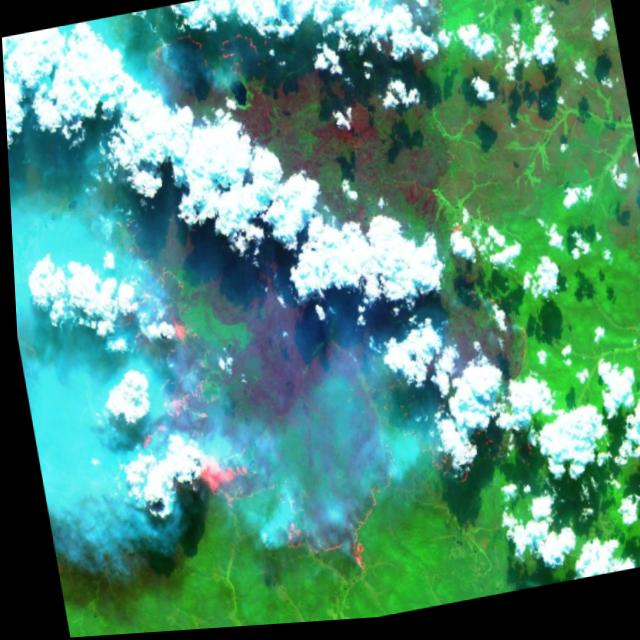fire: (21, 0, 573, 626)
